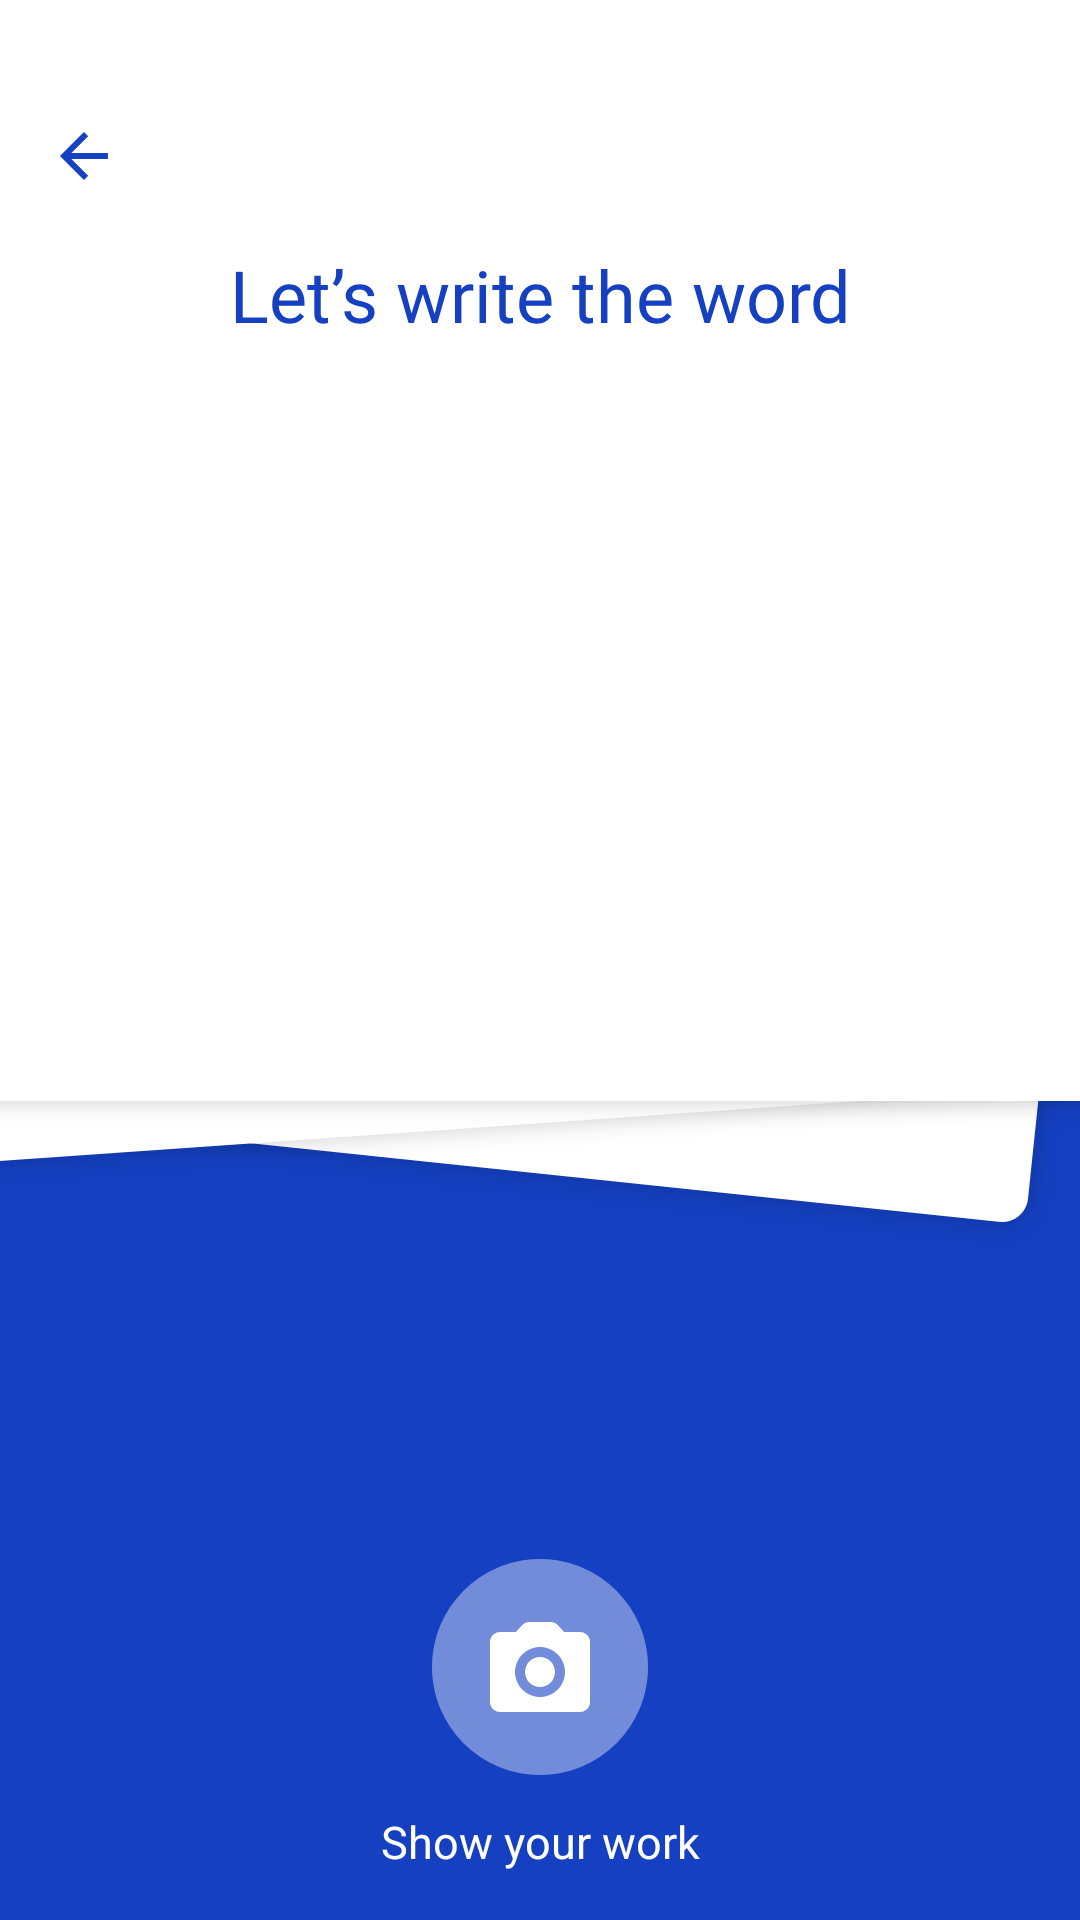

Icon bounding boxes for this 1080 × 1920 phone screenshot, format (left=x1, top=y1, right=x2, bottom=y2):
back: (left=60, top=132, right=108, bottom=180)
camera nurmal: (left=432, top=1559, right=648, bottom=1775)
